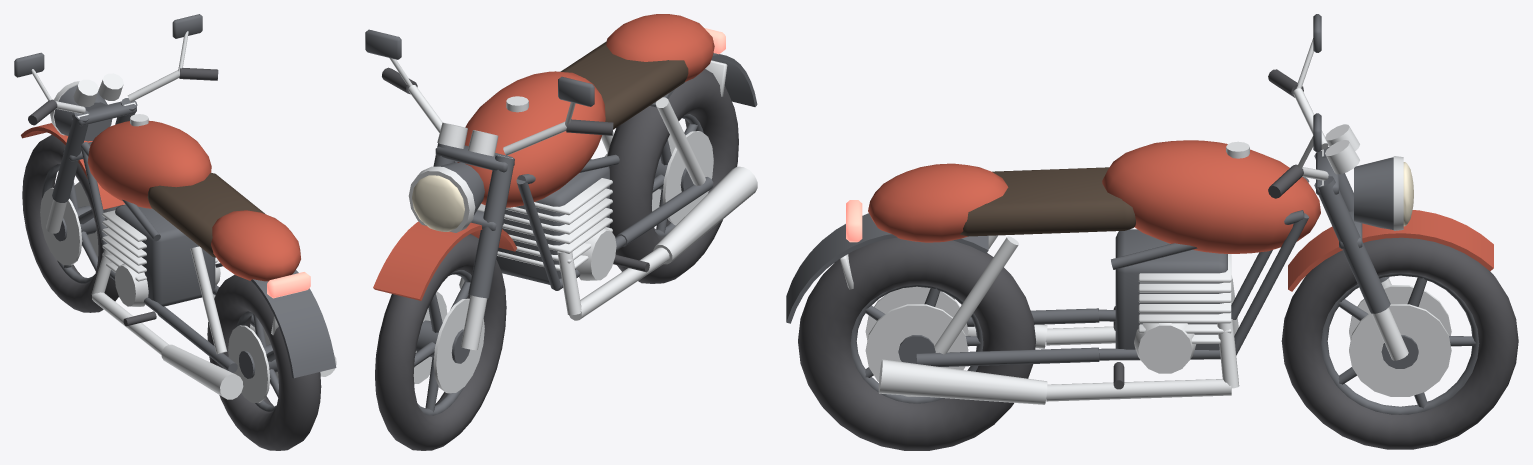
The model's file is OW_Motorcycle.fbx.
3 views of the same model, side by side, from view 1: azimuth 30°, elevation 25°; view 2: azimuth 150°, elevation 25°; view 3: azimuth 270°, elevation 25° (orthographic). The views are drawn at different scales.
Parts seen in each view (by area): view 1: Frame, Wheel_Rear, Fork, Wheel_Front; view 2: Frame, Fork, Wheel_Front, Wheel_Rear; view 3: Frame, Wheel_Front, Wheel_Rear, Fork.
Boxes of the visible parts, <box> form: Frame: <box>80,114,336,399</box>; Wheel_Rear: <box>207,274,321,450</box>; Fork: <box>14,14,218,233</box>; Wheel_Front: <box>22,134,122,312</box>; Frame: <box>455,14,757,320</box>; Fork: <box>365,29,613,350</box>; Wheel_Front: <box>375,234,506,450</box>; Wheel_Rear: <box>607,69,738,283</box>; Frame: <box>786,140,1320,404</box>; Wheel_Front: <box>1281,237,1518,449</box>; Wheel_Rear: <box>798,237,1035,450</box>; Fork: <box>1268,14,1493,360</box>.
Bounding box in the file's own units: 0.8503 × 1.26 × 2.21.
